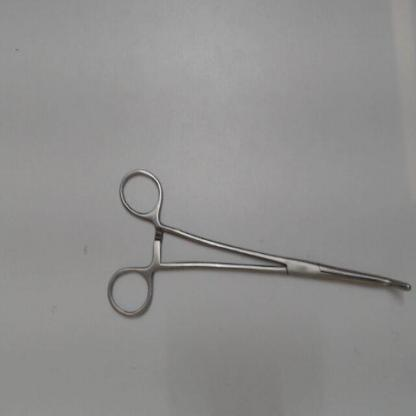Lahey Forceps: (103, 160, 414, 326)
